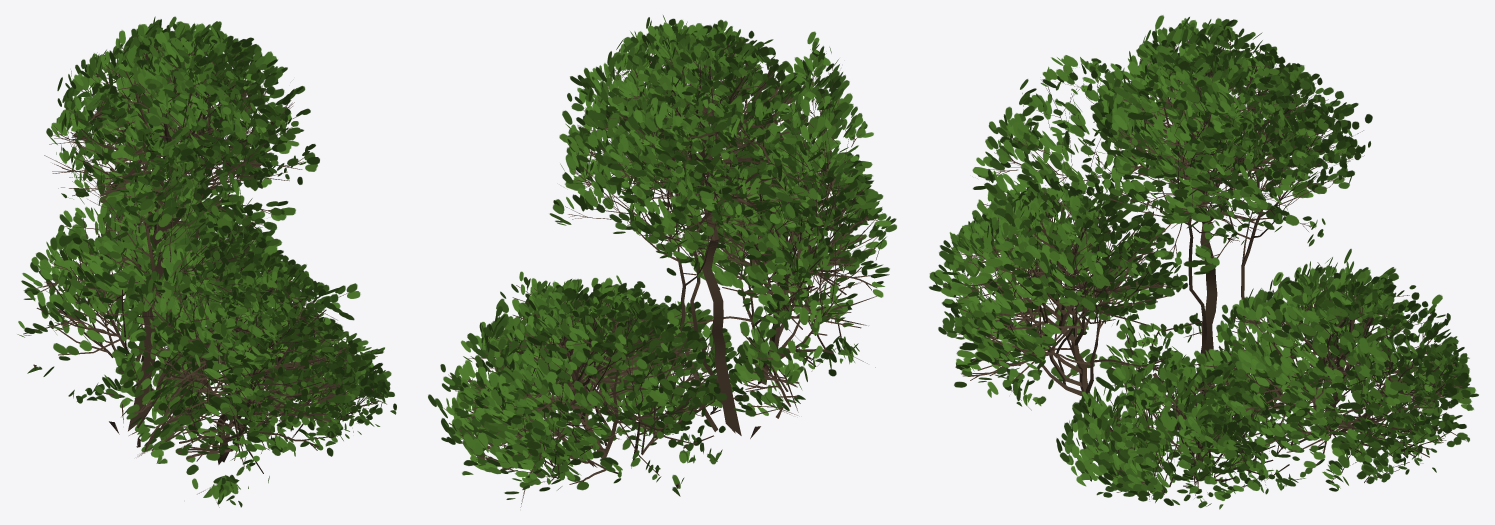
The picture shows the model from 3 angles, left to right: view 1: azimuth 30°, elevation 25°; view 2: azimuth 150°, elevation 25°; view 3: azimuth 270°, elevation 25°; orthographic projection.
Parts seen in each view (by area): view 1: oak 01.001_trunk_Mat.001_0.199; view 2: oak 01.001_trunk_Mat.001_0.199; view 3: oak 01.001_trunk_Mat.001_0.199.
Part boxes in pixels (box(x1,y1,x2,y2)): oak 01.001_trunk_Mat.001_0.199: box(17, 16, 396, 507); oak 01.001_trunk_Mat.001_0.199: box(428, 15, 896, 507); oak 01.001_trunk_Mat.001_0.199: box(929, 15, 1478, 509).
Bounding box in the file's own units: 2.35 × 3.2 × 3.91.
Materials: 2 (1 with a texture image).
